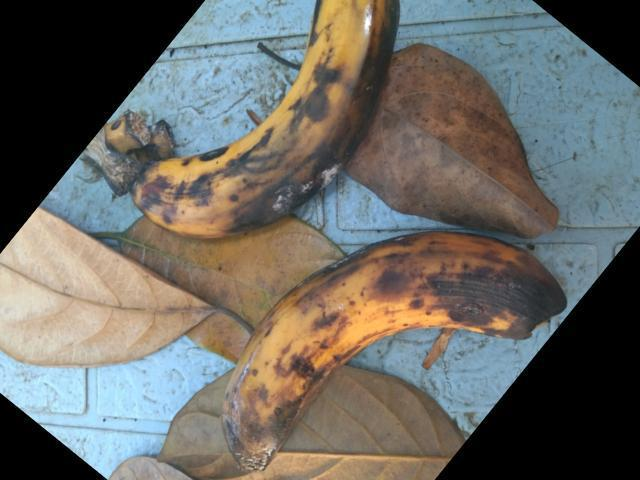overripe: (193, 214, 599, 479), (114, 0, 433, 269)
